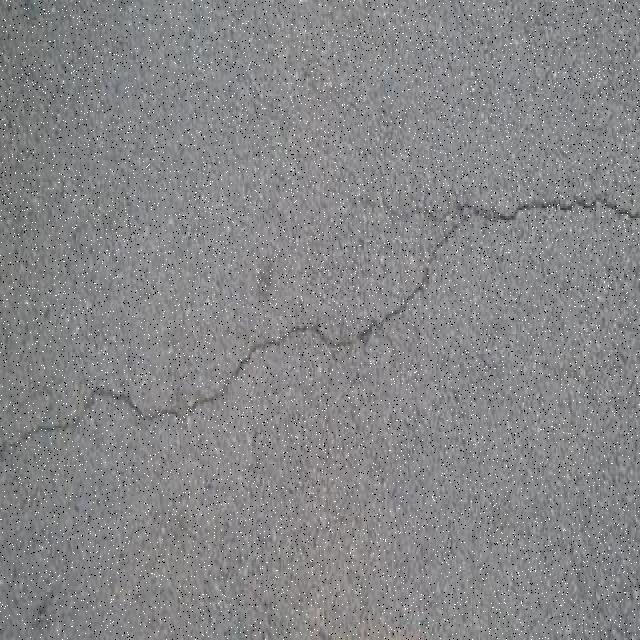minor crack: (404, 216, 460, 264)
moderate crack: (317, 188, 634, 331), (136, 292, 416, 413), (10, 374, 220, 442), (361, 284, 429, 340), (231, 329, 303, 371), (313, 320, 366, 351), (170, 386, 228, 414)
severe crack: (180, 417, 307, 478), (491, 194, 628, 220)
